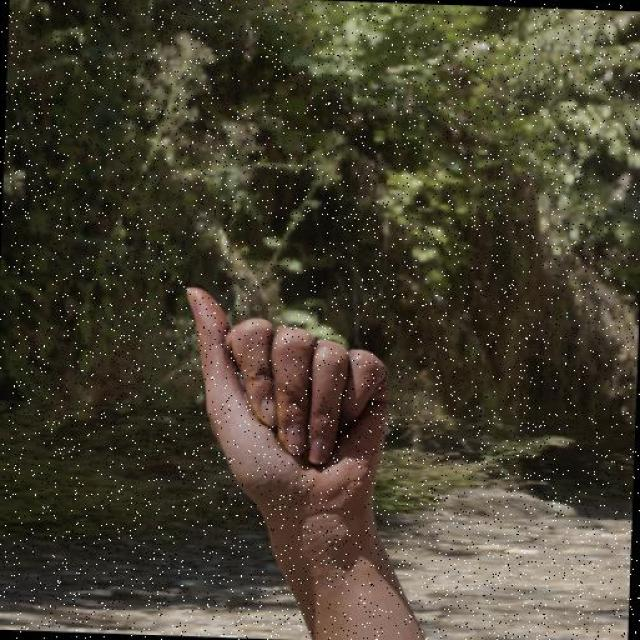A: (175, 281, 399, 523)
